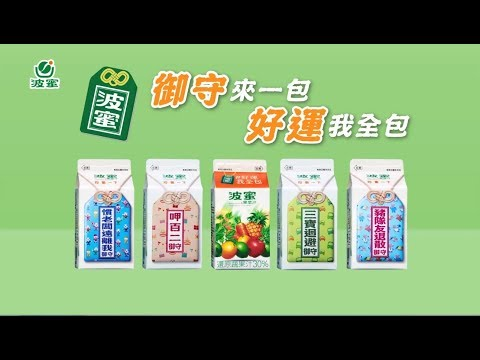vegetables juice: (208, 172, 272, 269)
